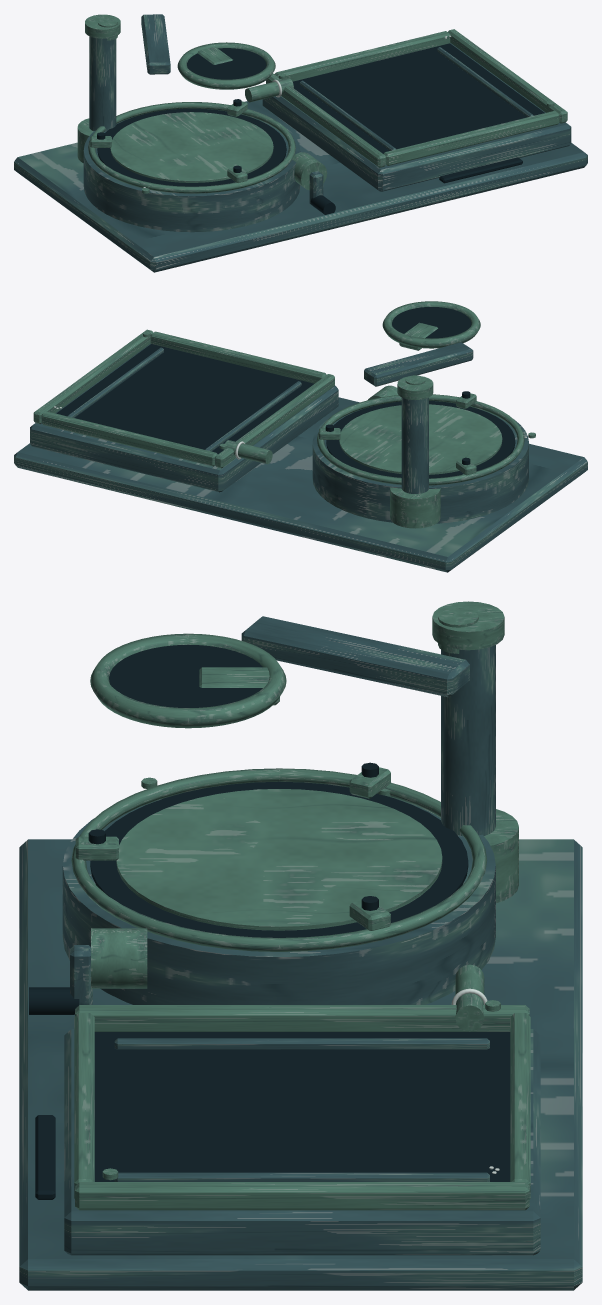
The model's file is SM_C1_Signature_Reader.fbx.
3 views of the same model, one above another, from view 1: azimuth 30°, elevation 25°; view 2: azimuth 150°, elevation 25°; view 3: azimuth 270°, elevation 25° (orthographic). The views are drawn at different scales.
Visible parts, largest first — view 1: SM_C1_Signature_Reader_Casting, SM_C1_Signature_Reader_Patina, SM_C1_Signature_Reader_Recess; view 2: SM_C1_Signature_Reader_Casting, SM_C1_Signature_Reader_Patina, SM_C1_Signature_Reader_Recess; view 3: SM_C1_Signature_Reader_Casting, SM_C1_Signature_Reader_Patina, SM_C1_Signature_Reader_Recess.
Part boxes in pixels (<box>): SM_C1_Signature_Reader_Casting: <box>14,14,587,272</box>; SM_C1_Signature_Reader_Patina: <box>77,14,567,193</box>; SM_C1_Signature_Reader_Recess: <box>97,43,544,214</box>; SM_C1_Signature_Reader_Casting: <box>14,342,587,572</box>; SM_C1_Signature_Reader_Patina: <box>33,301,535,528</box>; SM_C1_Signature_Reader_Recess: <box>56,307,515,478</box>; SM_C1_Signature_Reader_Casting: <box>19,616,582,1290</box>; SM_C1_Signature_Reader_Patina: <box>71,601,530,1210</box>; SM_C1_Signature_Reader_Recess: <box>29,644,510,1199</box>.
Size of the model in its own units: 70 by 24 by 39.
Materials: 4 (2 with a texture image).
